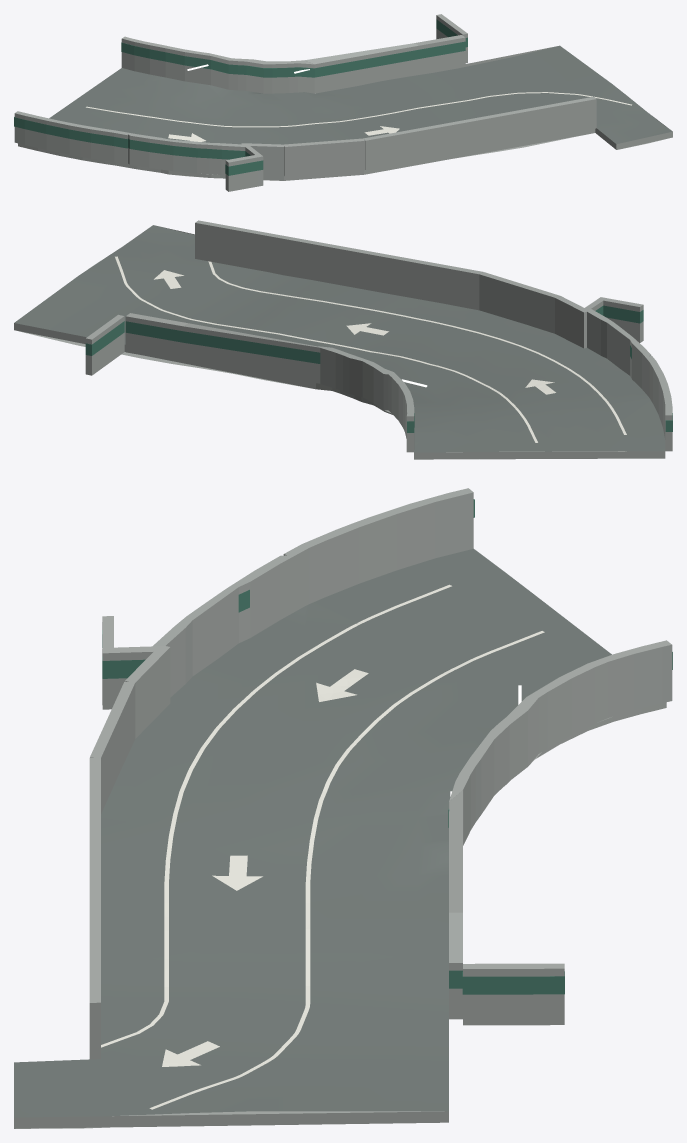
Rendered from B01-west-drive.glb.
3 renders of one model, top to bottom at view 1: azimuth 30°, elevation 25°; view 2: azimuth 150°, elevation 25°; view 3: azimuth 270°, elevation 25°, orthographic. The views are drawn at different scales.
Parts seen in each view (by area): view 1: SOURCE GRADES | interpolated floor, SOURCE EDGE | proposed parapet continuation.002, SOURCE WALL 406, SOURCE WALL 467, SOURCE WALL 479, SOURCE EDGE | proposed parapet continuation.001, PROPOSED | identity band, PROPOSED | identity band.003, SCENE CUT | slab edge.018, SOURCE WALL 1080, PROPOSED | identity band.004, PROPOSED TRAFFIC | curved-entry-ramp | edge (+9 smaller); view 2: SOURCE GRADES | interpolated floor, SOURCE EDGE | proposed parapet continuation.002, SOURCE WALL 467, SOURCE WALL 406, SOURCE WALL 479, SOURCE EDGE | proposed parapet continuation.001, PROPOSED TRAFFIC | curved-entry-ramp | edge, SCENE CUT | slab edge, SOURCE WALL 1080, PROPOSED | identity band.004, SOURCE EDGE | proposed parapet continuation, SOURCE WALL 775 (+7 smaller); view 3: SOURCE GRADES | interpolated floor, SOURCE WALL 406, SOURCE WALL 467, PROPOSED TRAFFIC | curved-entry-ramp | edge, SCENE CUT | slab edge.015, SOURCE WALL 775, SOURCE EDGE | proposed parapet continuation.002, SOURCE EDGE | proposed parapet continuation.001, SOURCE EDGE | proposed parapet continuation, PROPOSED TRAFFIC | curved-entry-ramp | arrow, PROPOSED | identity band.005, SOURCE WALL 479 (+2 smaller).
Part boxes in pixels (box(x1,y1,x2,y2)): SOURCE GRADES | interpolated floor: box(49, 45, 672, 144); SOURCE EDGE | proposed parapet continuation.002: box(363, 96, 596, 169); SOURCE WALL 406: box(14, 111, 245, 175); SOURCE WALL 467: box(121, 36, 314, 93); SOURCE WALL 479: box(304, 43, 418, 93); SOURCE EDGE | proposed parapet continuation.001: box(283, 138, 364, 176); PROPOSED | identity band: box(14, 117, 245, 159); PROPOSED | identity band.003: box(121, 42, 314, 77); SCENE CUT | slab edge.018: box(364, 128, 595, 174); SOURCE WALL 1080: box(415, 35, 465, 74); PROPOSED | identity band.004: box(315, 50, 418, 77); PROPOSED TRAFFIC | curved-entry-ramp | edge: box(86, 92, 631, 127); SOURCE GRADES | interpolated floor: box(14, 225, 665, 452); SOURCE EDGE | proposed parapet continuation.002: box(195, 220, 482, 310); SOURCE WALL 467: box(316, 346, 414, 452); SOURCE WALL 406: box(587, 309, 672, 451); SOURCE WALL 479: box(183, 323, 319, 383); SOURCE EDGE | proposed parapet continuation.001: box(479, 272, 559, 333); PROPOSED TRAFFIC | curved-entry-ramp | edge: box(115, 256, 626, 442); SCENE CUT | slab edge: box(414, 451, 665, 459); SOURCE WALL 1080: box(125, 313, 187, 362); PROPOSED | identity band.004: box(183, 331, 320, 363); SOURCE EDGE | proposed parapet continuation: box(555, 296, 586, 348); SOURCE WALL 775: box(85, 314, 124, 375); SOURCE GRADES | interpolated floor: box(14, 548, 611, 1117); SOURCE WALL 406: box(153, 488, 473, 697); SOURCE WALL 467: box(449, 640, 672, 845); PROPOSED TRAFFIC | curved-entry-ramp | edge: box(101, 584, 544, 1109); SCENE CUT | slab edge.015: box(14, 1111, 448, 1128); SOURCE WALL 775: box(463, 963, 564, 1025); SOURCE EDGE | proposed parapet continuation.002: box(89, 757, 100, 1059); SOURCE EDGE | proposed parapet continuation.001: box(90, 681, 135, 813); SOURCE EDGE | proposed parapet continuation: box(124, 646, 170, 738); PROPOSED TRAFFIC | curved-entry-ramp | arrow: box(162, 669, 368, 1066); PROPOSED | identity band.005: box(462, 971, 564, 994); SOURCE WALL 479: box(449, 790, 462, 912).
Bounding box in the file's own units: 21.24 × 2.61 × 11.66.
